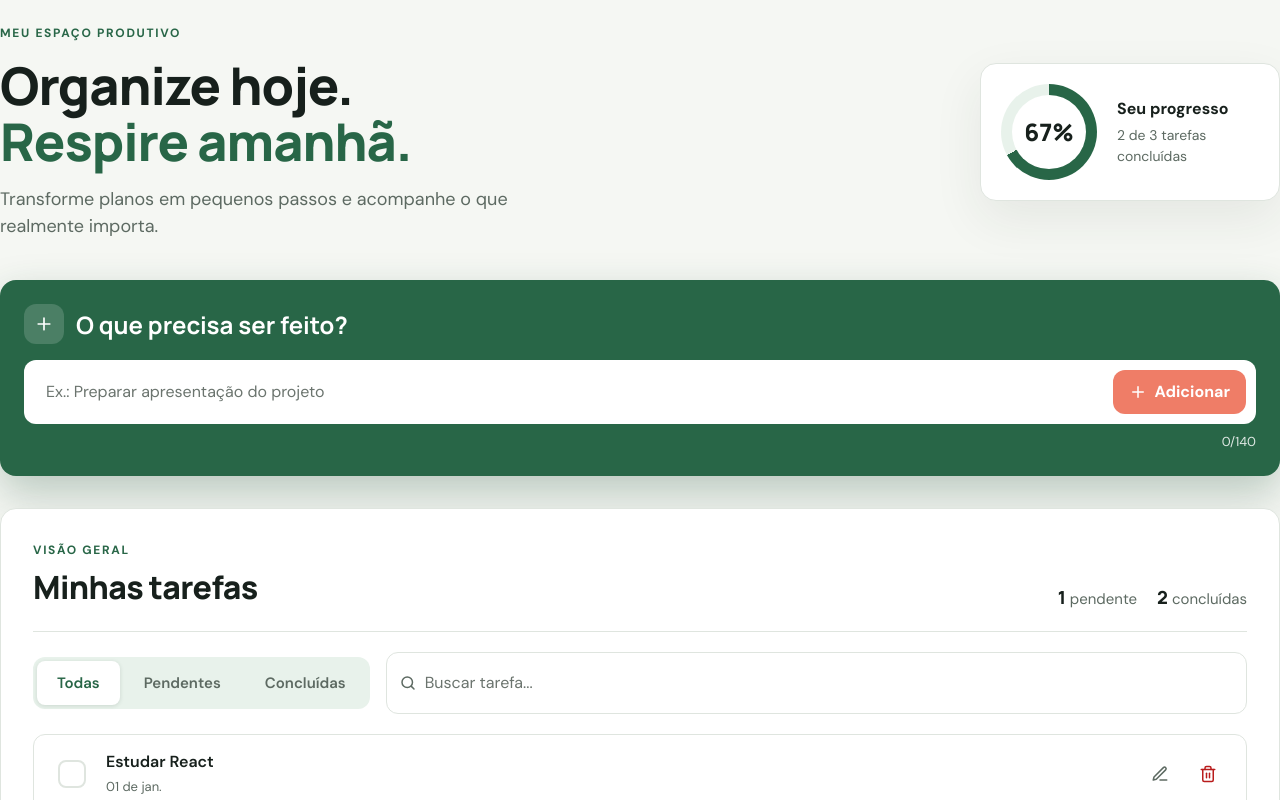
Test case: TasksPage — filtro e busca combinados › combina filtro Concluídas com busca React
This screenshot has width=1280, height=800.
Click the button "Concluídas": coordinates (305, 683) [245,661,366,705]
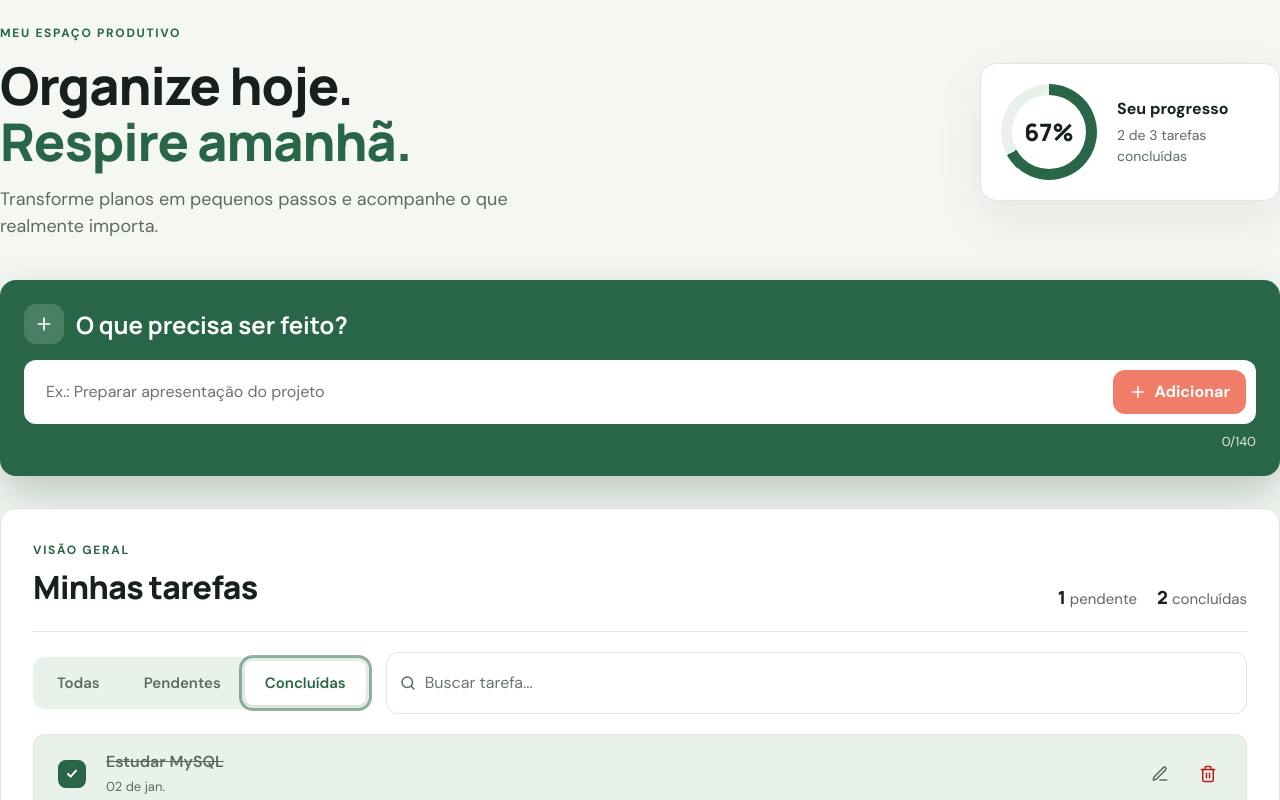
In the search field: coordinates (829, 683) [425,661,1234,705], type "React"
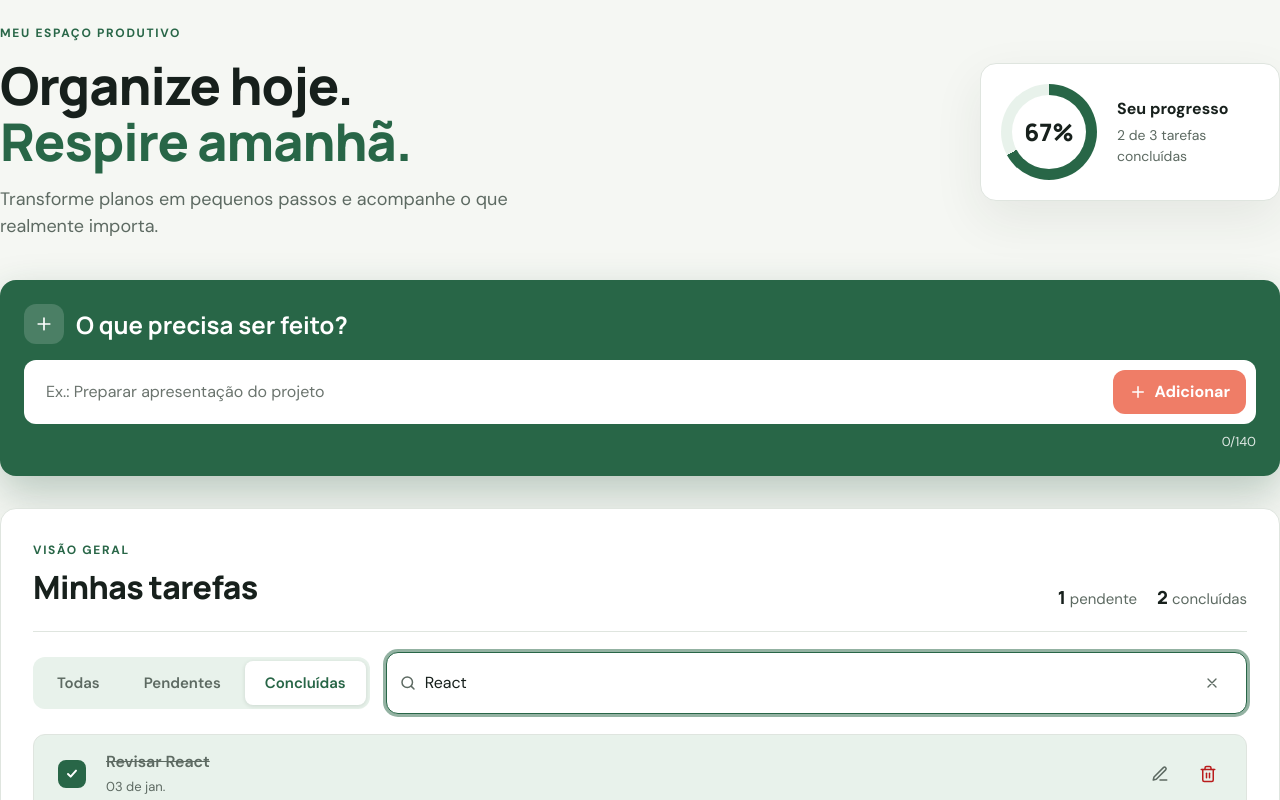
Expected: the text "Estudar React" is not shown
Now the text "Estudar MySQL" is gone
